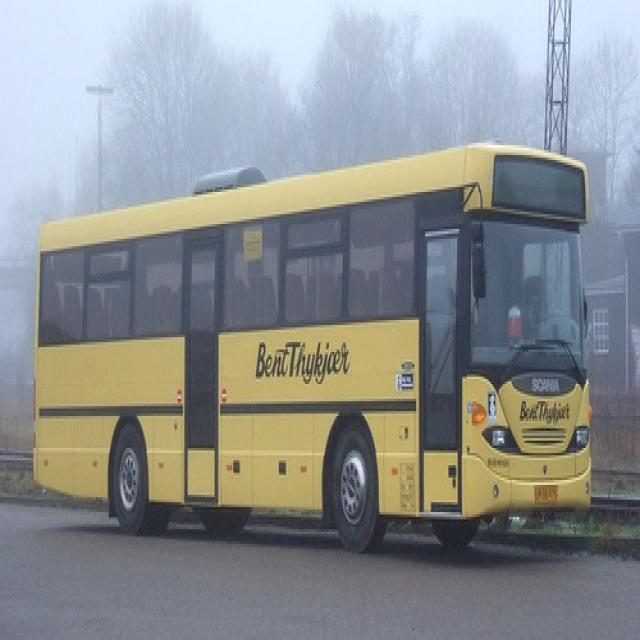bus: (32, 140, 589, 554)
